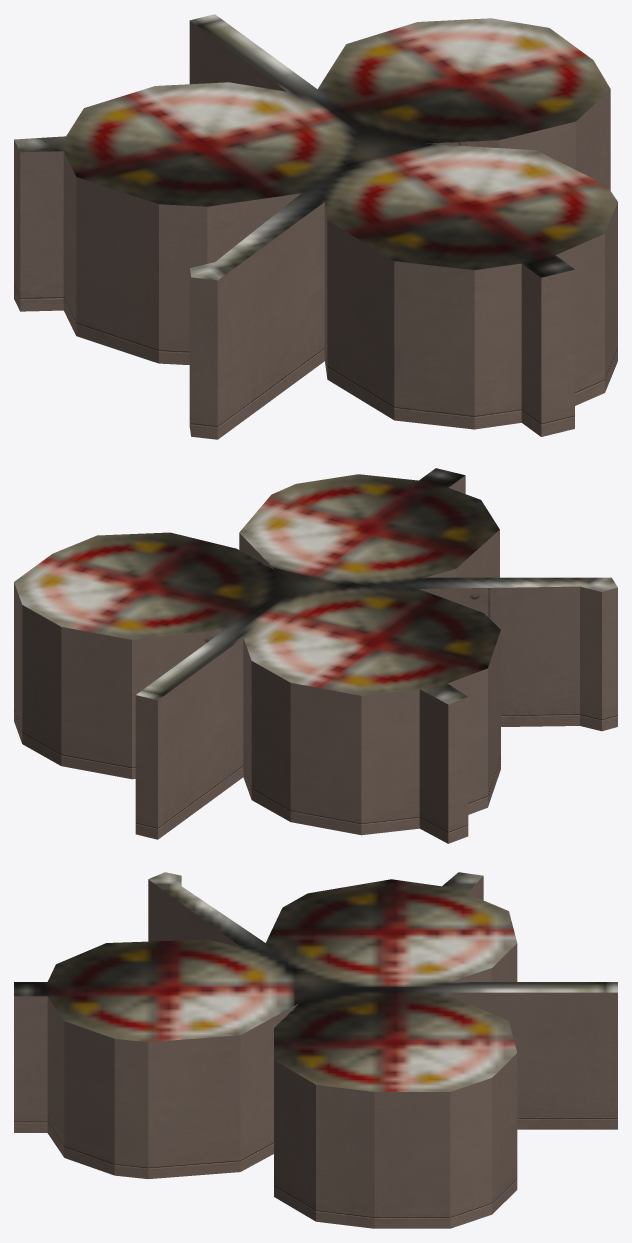
File: fuel_tank_medium_57.glb
The picture shows the model from 3 angles, top to bottom: view 1: azimuth 30°, elevation 25°; view 2: azimuth 150°, elevation 25°; view 3: azimuth 270°, elevation 25°; orthographic projection. The views are drawn at different scales.
Parts seen in each view (by area): view 1: buildings/saxarba/fuel_tanks/fuel_tank_medium_57; view 2: buildings/saxarba/fuel_tanks/fuel_tank_medium_57; view 3: buildings/saxarba/fuel_tanks/fuel_tank_medium_57.
Boxes of the visible parts, x1,y1,x2,y2 form: buildings/saxarba/fuel_tanks/fuel_tank_medium_57: [14, 14, 617, 439]; buildings/saxarba/fuel_tanks/fuel_tank_medium_57: [14, 468, 617, 843]; buildings/saxarba/fuel_tanks/fuel_tank_medium_57: [14, 872, 617, 1228].
Bounding box in the file's own units: 62 × 18 × 72.
